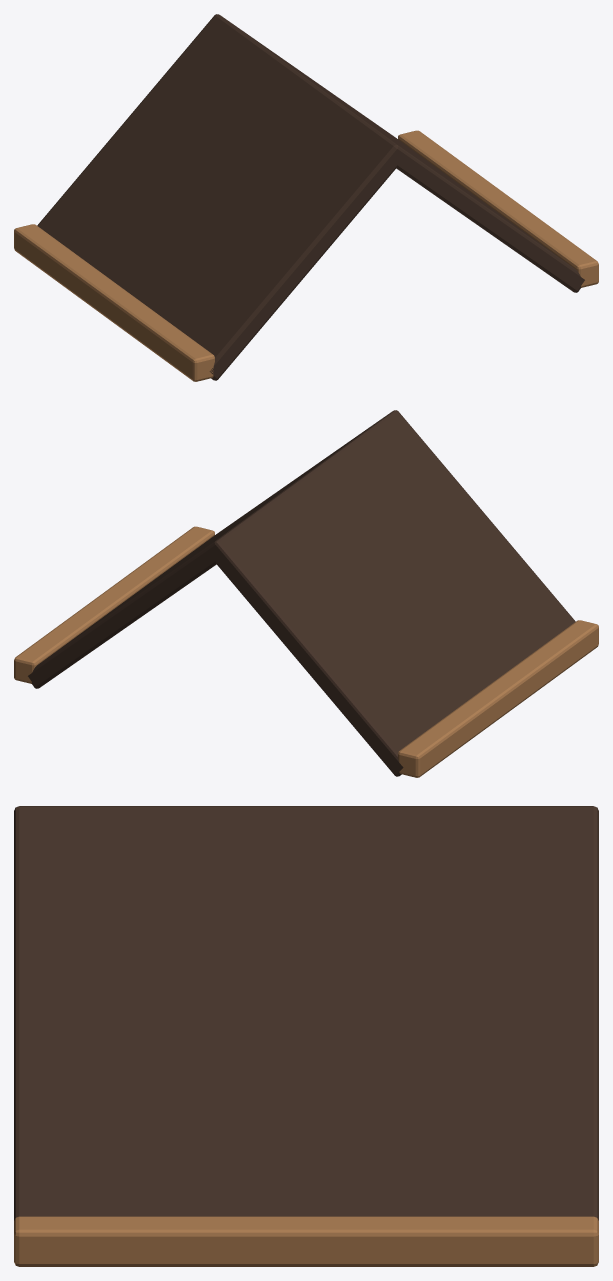
Rendered from roof_gable_2x2m__structure.glb.
3 views of the same model, one above another, from view 1: azimuth 30°, elevation 25°; view 2: azimuth 150°, elevation 25°; view 3: azimuth 270°, elevation 25° (orthographic). The views are drawn at different scales.
Visible parts, largest first — view 1: roof_gable_2x2m__structure__mesh_00; view 2: roof_gable_2x2m__structure__mesh_00; view 3: roof_gable_2x2m__structure__mesh_00.
Part boxes in pixels (bbox=[...]): roof_gable_2x2m__structure__mesh_00: bbox=[14, 14, 598, 381]; roof_gable_2x2m__structure__mesh_00: bbox=[14, 410, 598, 777]; roof_gable_2x2m__structure__mesh_00: bbox=[14, 806, 598, 1266].
Bounding box in the file's own units: 2.58 × 1.16 × 2.
